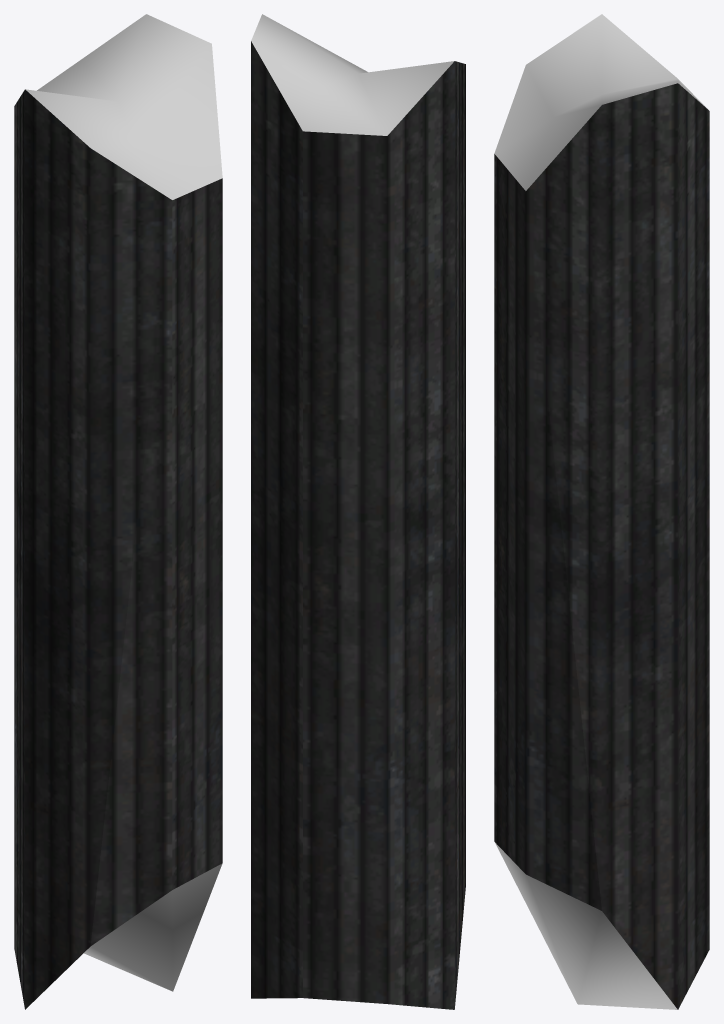
File: roman_decayed3.dae
3 renders of one model, left to right at view 1: azimuth 30°, elevation 25°; view 2: azimuth 150°, elevation 25°; view 3: azimuth 270°, elevation 25°, orthographic. The views are drawn at different scales.
Parts seen in each view (by area): view 1: polySurface5, polySurface9, polySurface6, polySurface3, polySurface4; view 2: polySurface5, polySurface9; view 3: polySurface5, polySurface7, polySurface9, polySurface3, polySurface4.
Part boxes in pixels (x1,y1,x2,y2): polySurface5: (14,89,172,1009); polySurface9: (25,14,222,991); polySurface6: (90,203,172,945); polySurface3: (172,178,222,888); polySurface4: (172,181,222,889); polySurface5: (251,41,465,1009); polySurface9: (251,14,454,135); polySurface5: (526,83,709,1009); polySurface7: (526,194,601,910); polySurface9: (494,14,708,1009); polySurface3: (494,154,525,839); polySurface4: (494,193,525,873).
Size of the model in its own units: 0.7651 by 3.66 by 0.7651.
